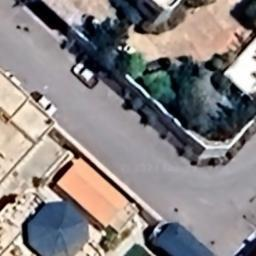pickup: (70, 63, 102, 92)
truck: (27, 90, 59, 120)
